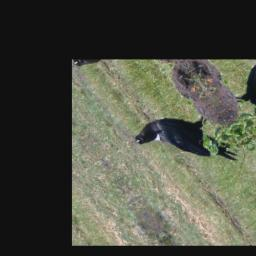Crow: (128, 96, 244, 197)
